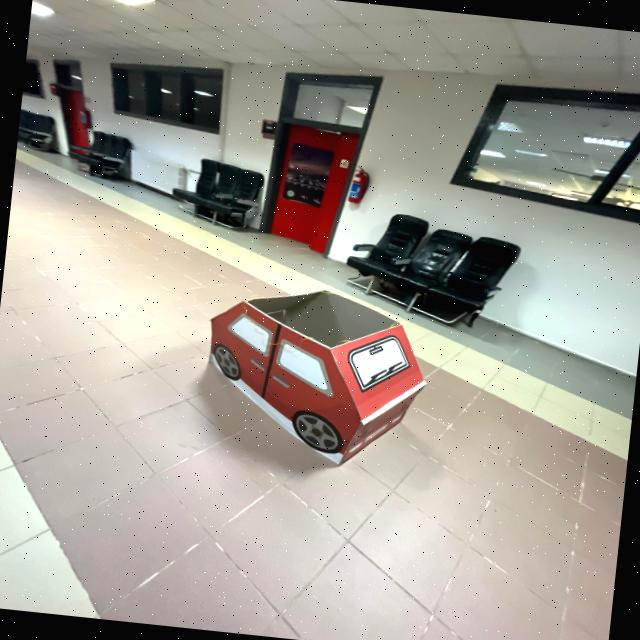red_car: (172, 271, 445, 480)
